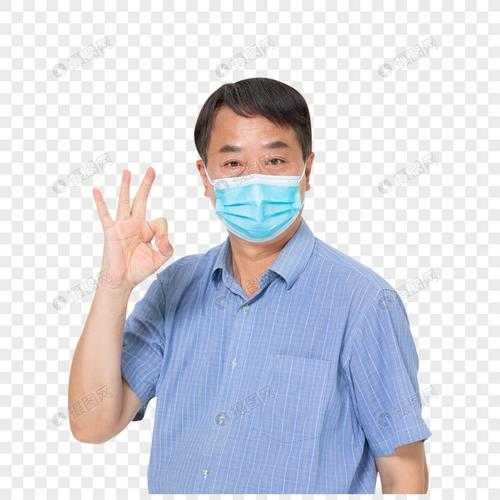mask: (205, 105, 314, 245)
